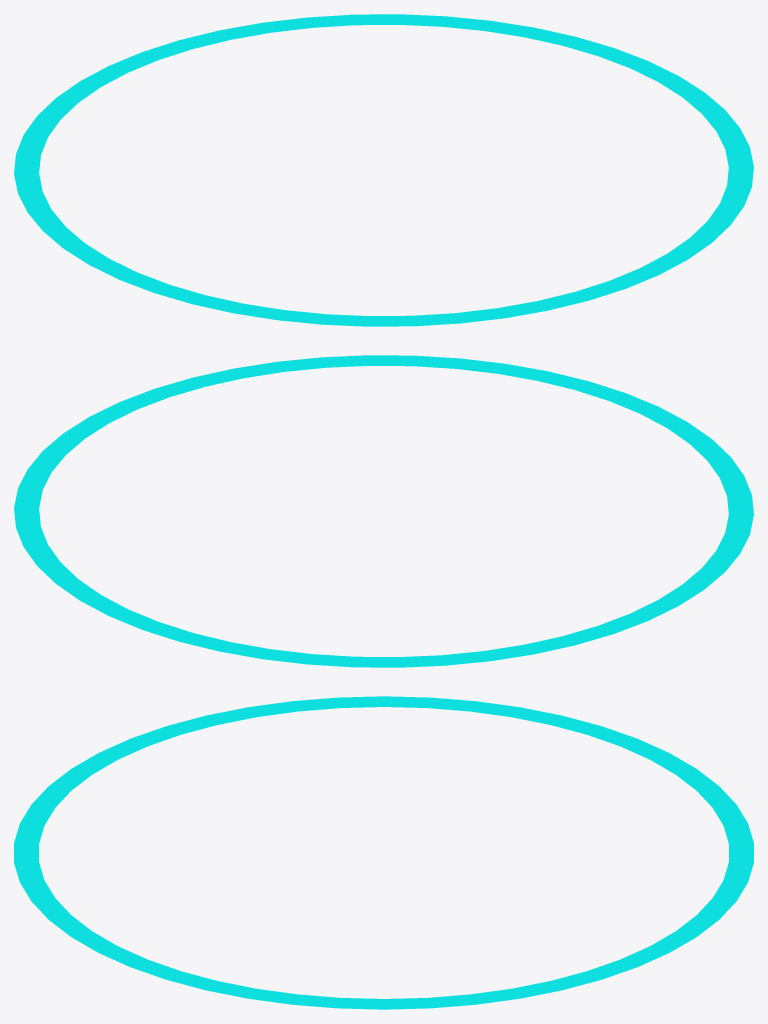
File: heatprobe.glb
3 renders of one model, top to bottom at view 1: azimuth 30°, elevation 25°; view 2: azimuth 150°, elevation 25°; view 3: azimuth 270°, elevation 25°, orthographic.
Visible parts, largest first — view 1: Animation; view 2: Animation; view 3: Animation.
Boxes of the visible parts, box(x1,y1,x2,y2) form: Animation: box(14, 14, 753, 326); Animation: box(14, 355, 753, 667); Animation: box(14, 696, 753, 1009).
Bounding box in the file's own units: 0.6015 × 0 × 0.6003.
